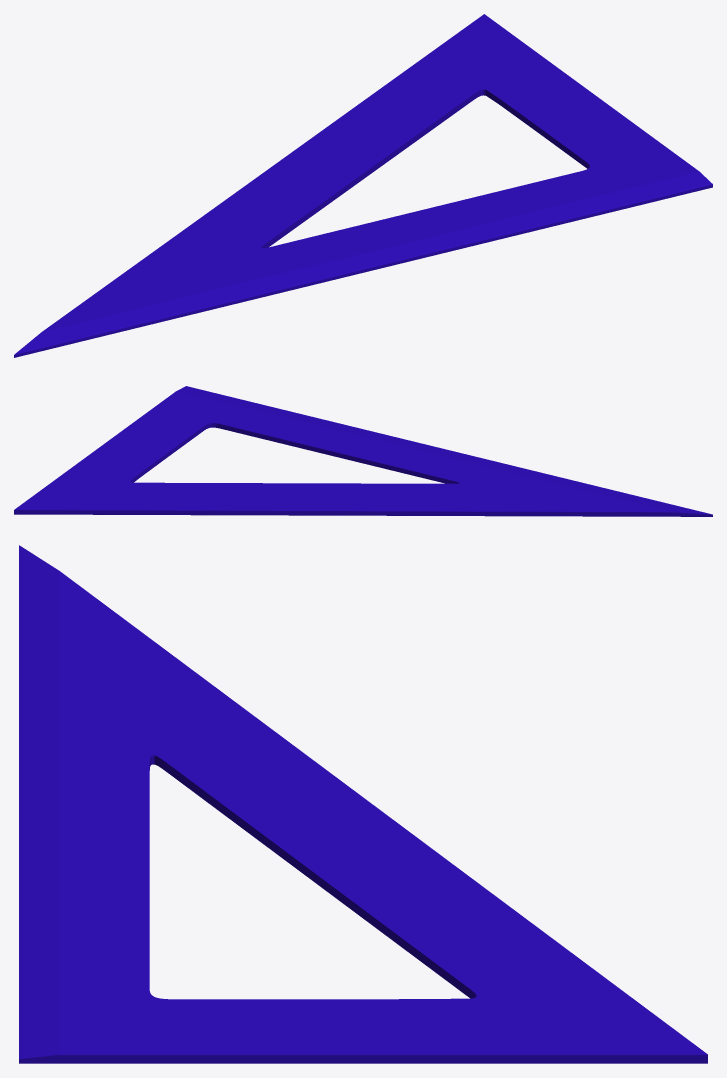
The model's file is square_ruler.glb.
3 views of the same model, one above another, from view 1: azimuth 30°, elevation 25°; view 2: azimuth 150°, elevation 25°; view 3: azimuth 270°, elevation 25° (orthographic). The views are drawn at different scales.
Visible parts, largest first — view 1: Ruler; view 2: Ruler; view 3: Ruler.
Boxes of the visible parts, x1,y1,x2,y2 form: Ruler: (14, 14, 712, 357); Ruler: (14, 386, 712, 516); Ruler: (19, 545, 707, 1063).
Bounding box in the file's own units: 0.3 × 0.00256 × 0.17.
